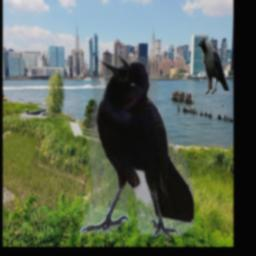Crow: (80, 55, 194, 238), (198, 37, 230, 94)
